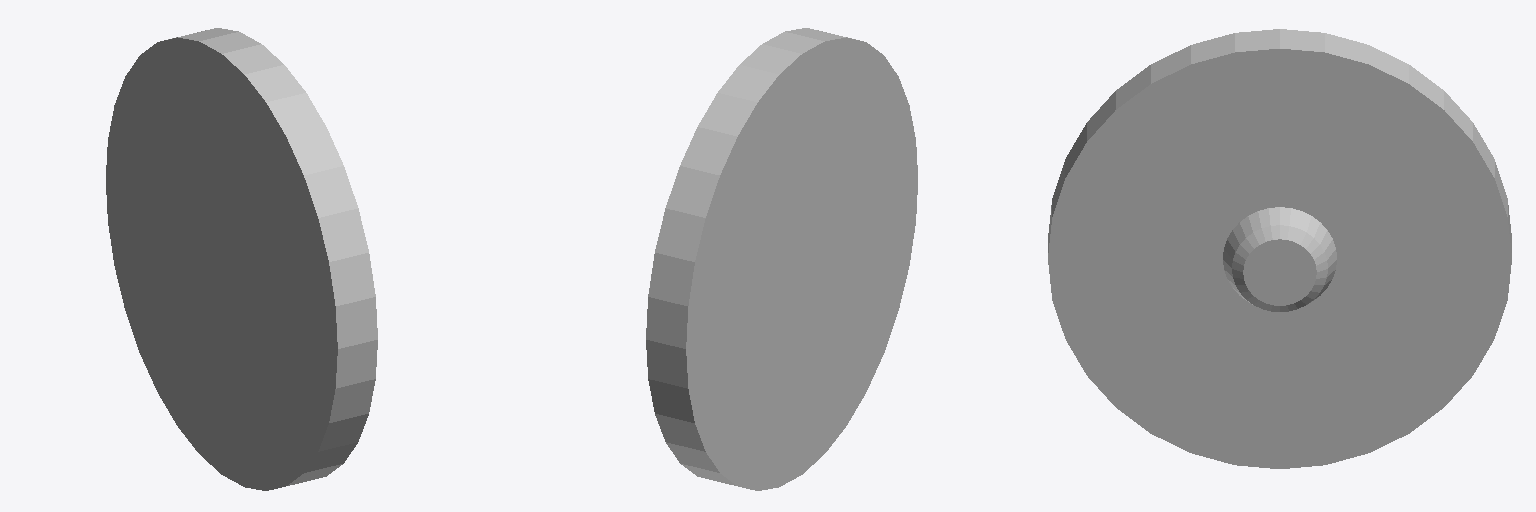
Rendered from Switch Target.obj.
3 views of the same model, side by side, from view 1: azimuth 30°, elevation 25°; view 2: azimuth 150°, elevation 25°; view 3: azimuth 270°, elevation 25° (orthographic).
Parts seen in each view (by area): view 1: Cylinder; view 2: Cylinder; view 3: Cylinder.
Part boxes in pixels (x1,y1,x2,y2): Cylinder: (106, 28, 377, 490); Cylinder: (646, 28, 917, 490); Cylinder: (1048, 29, 1511, 468).
Size of the model in its own units: 0.1702 by 1 by 1.